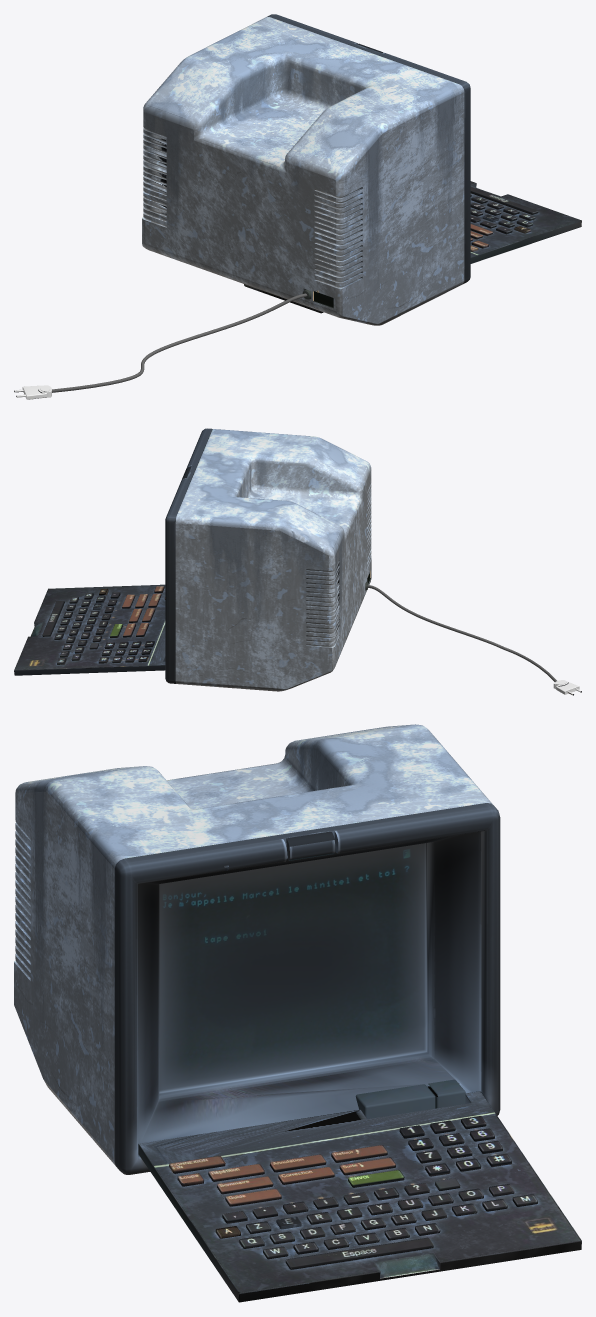
File: minitel_1982-france.glb
3 views of the same model, one above another, from view 1: azimuth 30°, elevation 25°; view 2: azimuth 150°, elevation 25°; view 3: azimuth 270°, elevation 25° (orthographic). The views are drawn at different scales.
Parts seen in each view (by area): view 1: old computer_0; view 2: old computer_0; view 3: old computer_0.
Part boxes in pixels (x1,y1,x2,y2): old computer_0: (14, 14, 581, 399); old computer_0: (14, 428, 581, 695); old computer_0: (14, 724, 581, 1302).
Bounding box in the file's own units: 26.83 × 8.88 × 14.13.
70 materials, 68 textured.
